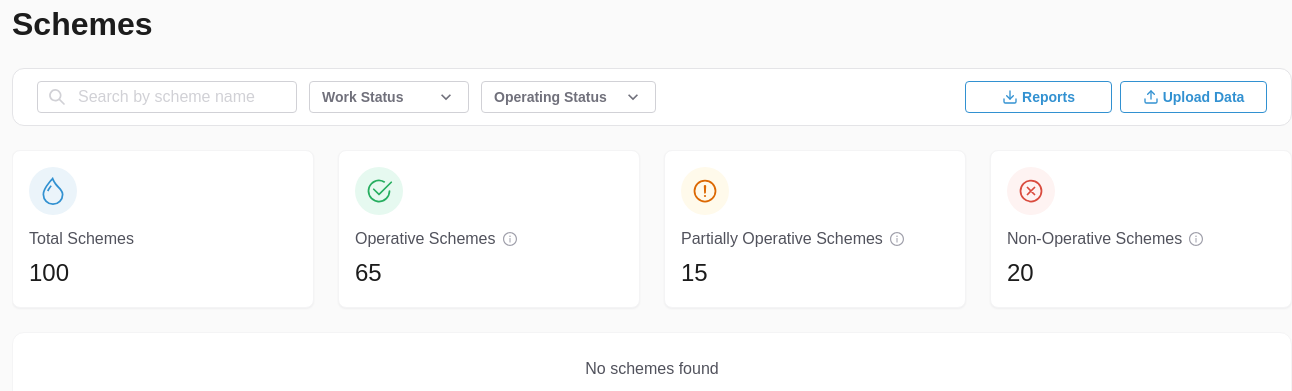
Test case: SchemeSyncPage › offers Partially Operative as an operating status filter option
The image size is (1292, 391).
Click the dropdown labelled "Operating Status" at coordinates (568, 97), box [481, 81, 656, 113]
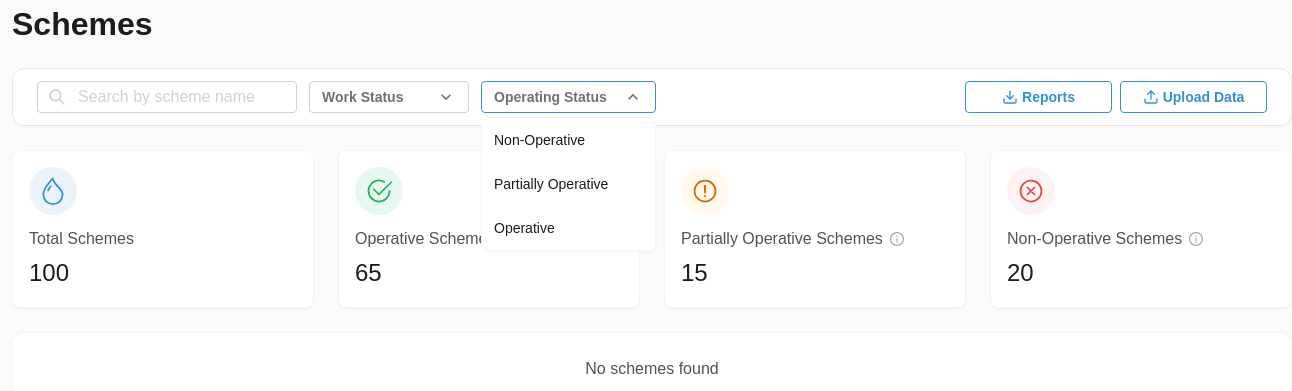
Expected: the text "Partially Operative" is shown, [494, 176, 608, 192]
